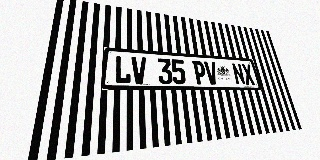3: (157, 58, 173, 84)
5: (171, 59, 186, 84)
L: (114, 55, 131, 84)
N: (231, 63, 246, 85)
P: (192, 60, 207, 85)
V: (131, 56, 147, 84), (204, 61, 219, 85)
X: (241, 64, 256, 85)
